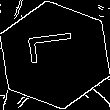L_E: (26, 36, 84, 74)
